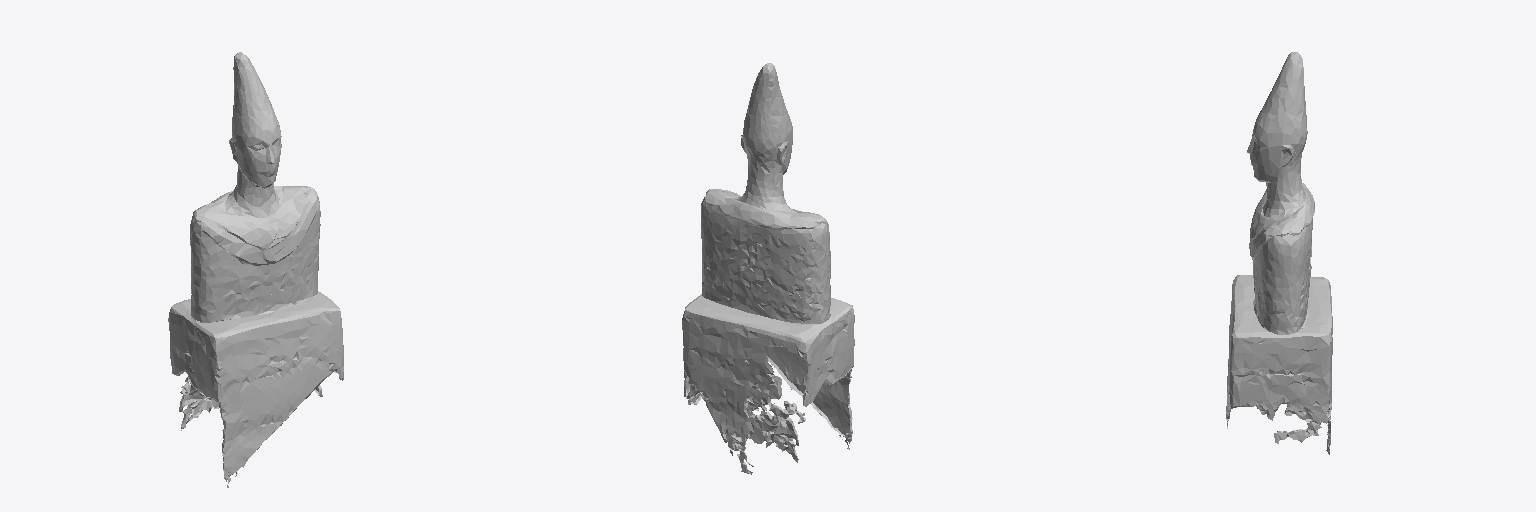
The model's file is lods.obj.
The picture shows the model from 3 angles: view 1: azimuth 30°, elevation 25°; view 2: azimuth 150°, elevation 25°; view 3: azimuth 270°, elevation 25°; orthographic projection.
Size of the model in its own units: 1.09 by 3.2 by 0.7836.